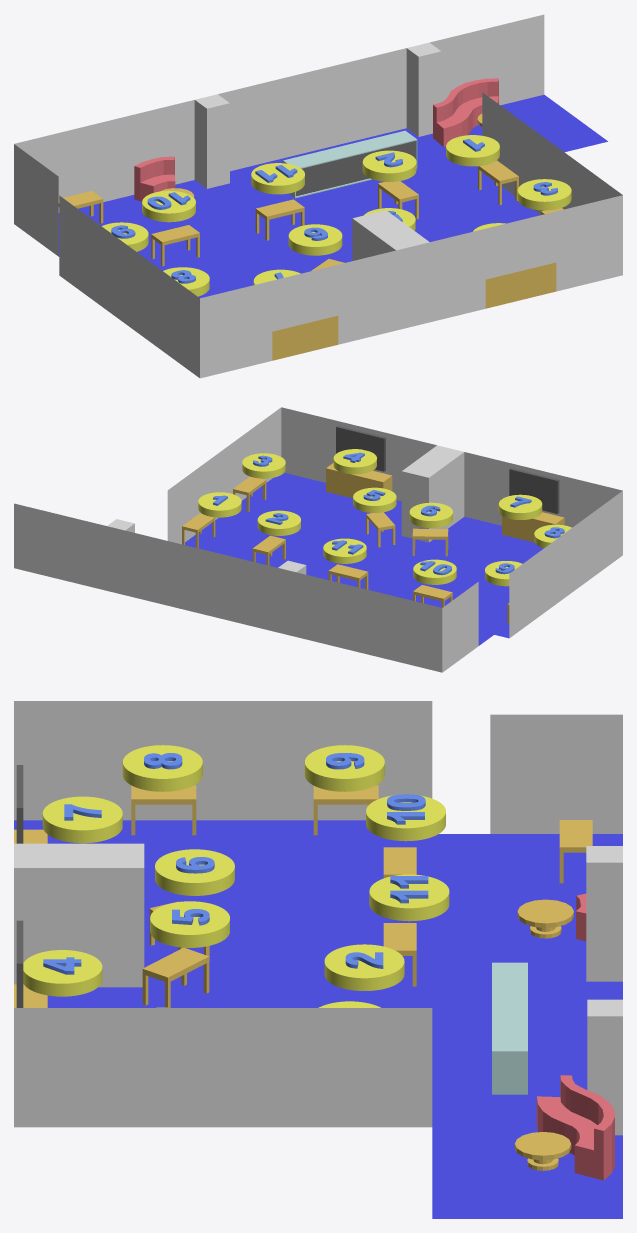
Rendered from 3DMapv1.glb.
The picture shows the model from 3 angles, top to bottom: view 1: azimuth 30°, elevation 25°; view 2: azimuth 150°, elevation 25°; view 3: azimuth 270°, elevation 25°; orthographic projection. The views are drawn at different scales.
Visible parts, largest first — view 1: Floor, Cylinder (×8), Cube%2E003, Cube%2E019, Cube%2E005, Cube%2E004, Cube%2E011, Cube%2E013, Cube%2E015, Cube%2E025, Cube%2E026, Cube%2E016; view 2: Floor, Cylinder (×11), Cube%2E002, Cube%2E005, Cube%2E014, Cube%2E004, Cube%2E025, Cube%2E013, Cube%2E027, Cube%2E026, Cube%2E024, Cube%2E028 (+1 smaller); view 3: Floor, Cylinder (×10), Cube%2E019, Cube%2E003, Cube%2E027, Text (×2), Cylinder%2E002, Cube%2E023, Cube%2E016, Cube%2E013, Cube%2E018, Cube%2E015 (+1 smaller).
Part boxes in pixels (left/top/right/bottom): Floor: left=14, top=14, right=622, bottom=378; Cylinder (×8): left=102, top=135, right=571, bottom=296; Cube%2E003: left=283, top=130, right=417, bottom=198; Cube%2E019: left=433, top=78, right=498, bottom=146; Cube%2E005: left=485, top=262, right=556, bottom=308; Cube%2E004: left=272, top=315, right=338, bottom=360; Cube%2E011: left=134, top=156, right=175, bottom=201; Cube%2E013: left=255, top=199, right=304, bottom=240; Cube%2E015: left=151, top=225, right=199, bottom=266; Cube%2E025: left=478, top=160, right=518, bottom=204; Cube%2E026: left=378, top=181, right=418, bottom=219; Cube%2E016: left=58, top=191, right=103, bottom=223; Floor: left=14, top=407, right=622, bottom=672; Cylinder (×11): left=198, top=449, right=571, bottom=586; Cube%2E002: left=509, top=468, right=559, bottom=513; Cube%2E005: left=326, top=463, right=392, bottom=498; Cube%2E014: left=336, top=426, right=385, bottom=471; Cube%2E004: left=502, top=512, right=564, bottom=542; Cube%2E025: left=182, top=513, right=215, bottom=548; Cube%2E013: left=328, top=564, right=368, bottom=589; Cube%2E027: left=366, top=512, right=395, bottom=547; Cube%2E026: left=252, top=535, right=285, bottom=565; Cube%2E024: left=233, top=476, right=266, bottom=512; Cube%2E028: left=412, top=528, right=448, bottom=556; Floor: left=14, top=701, right=622, bottom=1218; Cylinder (×10): left=23, top=745, right=571, bottom=1170; Cube%2E019: left=536, top=1075, right=614, bottom=1180; Cube%2E003: left=492, top=962, right=527, bottom=1094; Cube%2E027: left=142, top=947, right=209, bottom=1007; Text (×2): left=387, top=794, right=428, bottom=903; Cylinder%2E002: left=517, top=899, right=573, bottom=938; Cube%2E023: left=131, top=785, right=196, bottom=835; Cube%2E016: left=559, top=820, right=592, bottom=883; Cube%2E013: left=383, top=923, right=416, bottom=986; Cube%2E018: left=313, top=785, right=378, bottom=835; Cube%2E015: left=383, top=847, right=416, bottom=878.
Bounding box in the file's own units: 0.5572 × 0.0777 × 0.3599.
